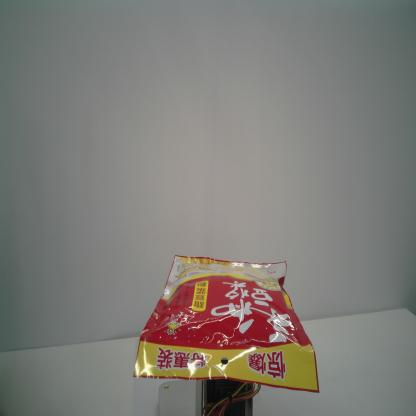Instant Drink: (133, 254, 320, 394)
